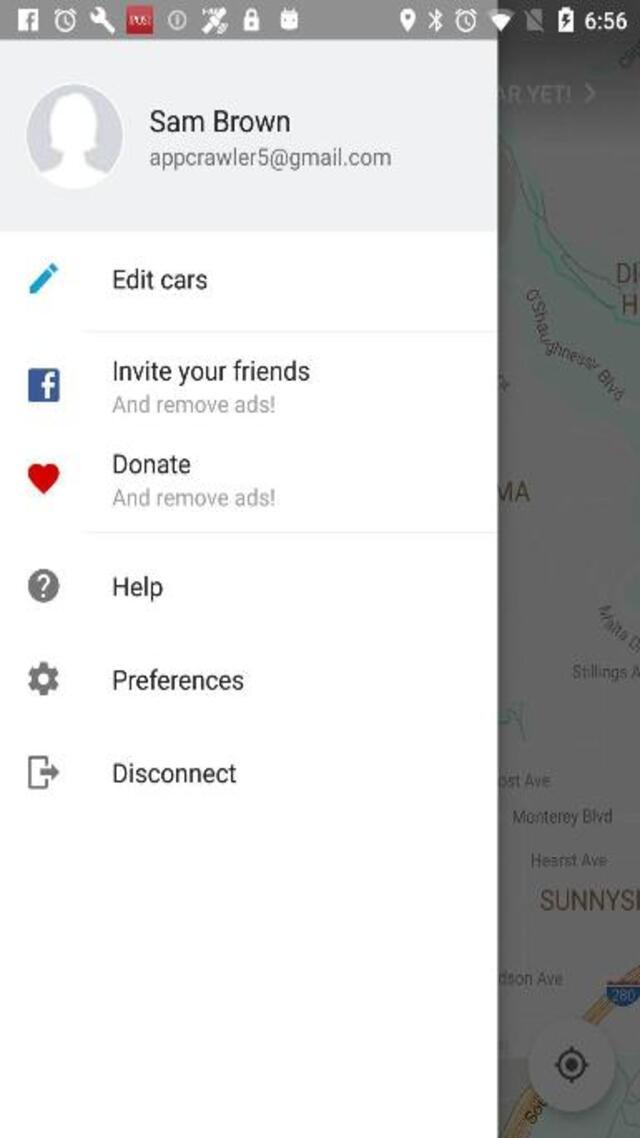Icon: (24, 81, 126, 189), (27, 754, 59, 790), (27, 662, 59, 696), (27, 568, 59, 602), (27, 369, 59, 403), (27, 462, 59, 494), (28, 262, 58, 294)
Text: (150, 145, 392, 172), (113, 358, 309, 386), (151, 108, 291, 134), (110, 393, 276, 414), (112, 488, 277, 508), (112, 668, 244, 690), (112, 763, 237, 784), (112, 268, 207, 290), (114, 452, 192, 476), (113, 574, 163, 602)
